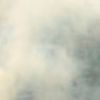smoke: (4, 3, 100, 99)
